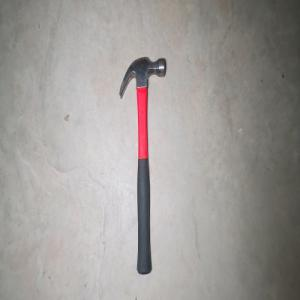Hammer: (118, 56, 165, 275)
